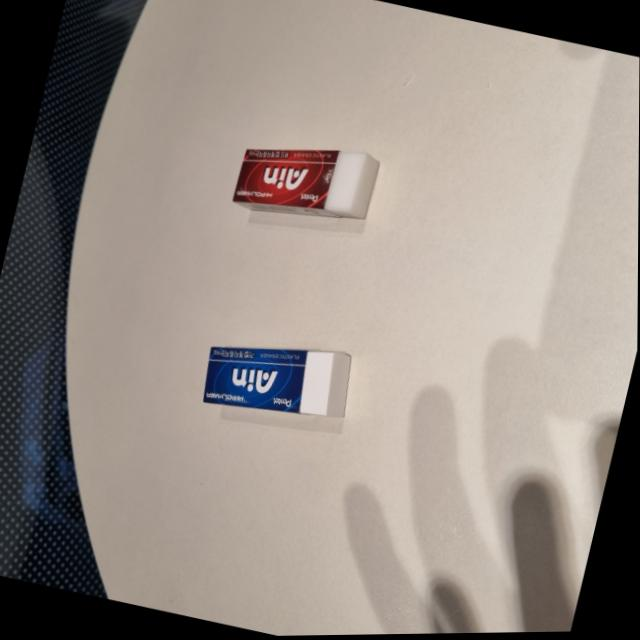blue: (193, 318, 364, 436)
red: (228, 120, 385, 240)
